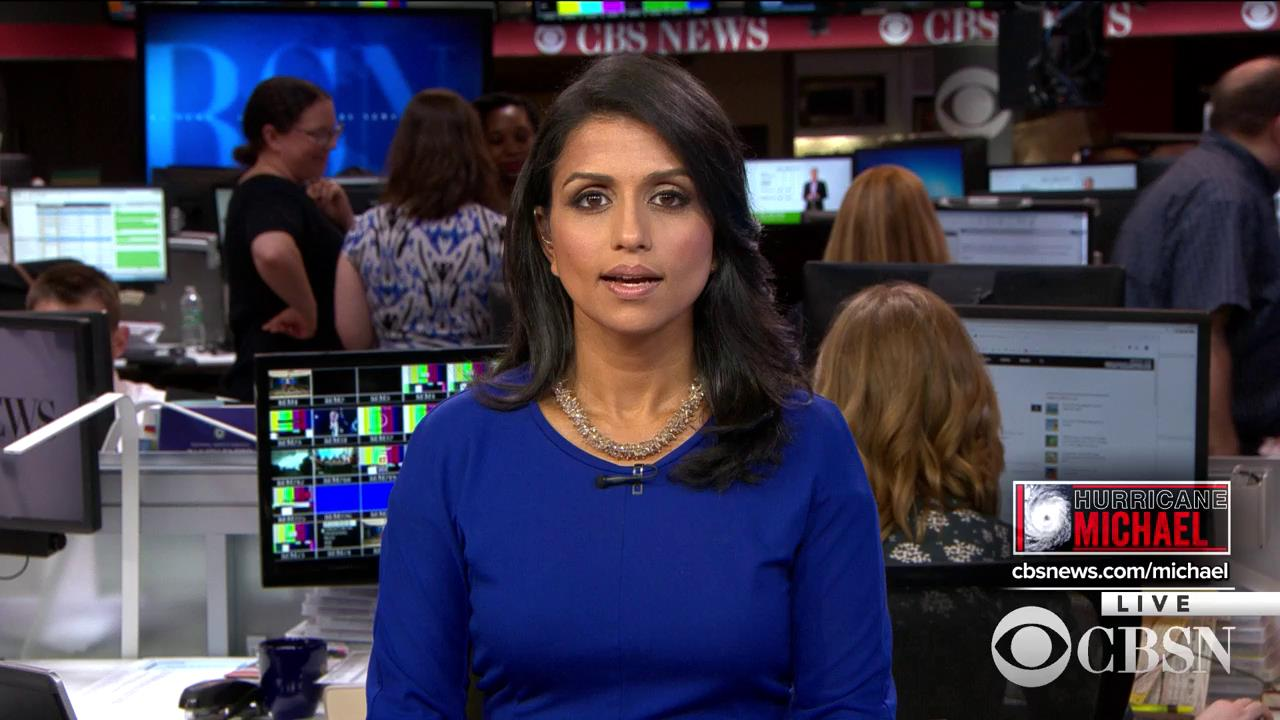BSN: (143, 39, 455, 177)
CBS: (922, 9, 1000, 44)
CBS NEWS: (570, 18, 773, 53)
CBSN: (1076, 625, 1237, 677)
HURRICANE: (1073, 488, 1229, 508)
LIVE: (1112, 592, 1192, 613)
MICHAEL: (1073, 508, 1212, 550)
S: (1105, 1, 1135, 36)
WS: (3, 393, 63, 444)
cbsnews.com/michael: (1011, 560, 1231, 580)
